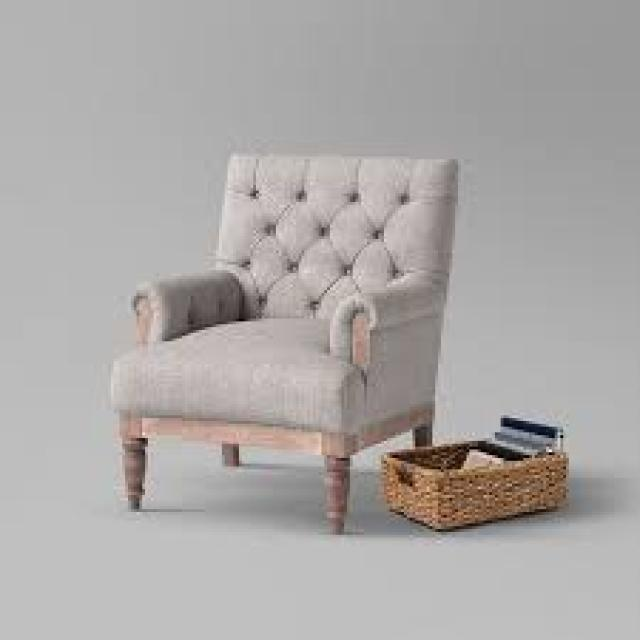chair: (78, 100, 477, 622)
